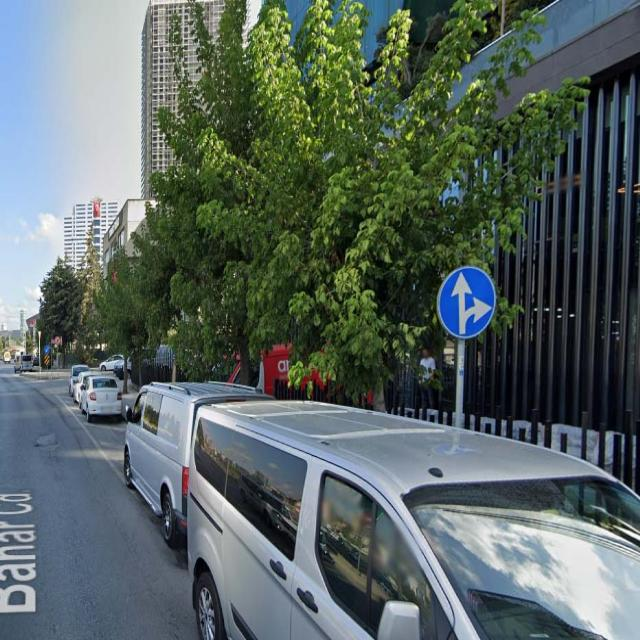ilerisag: (437, 267, 496, 338)
